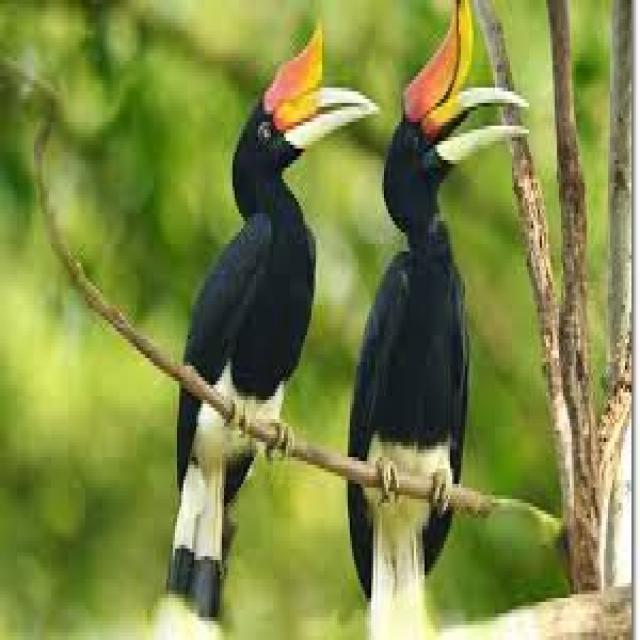Hornbill: (168, 20, 379, 601), (352, 6, 530, 640)
